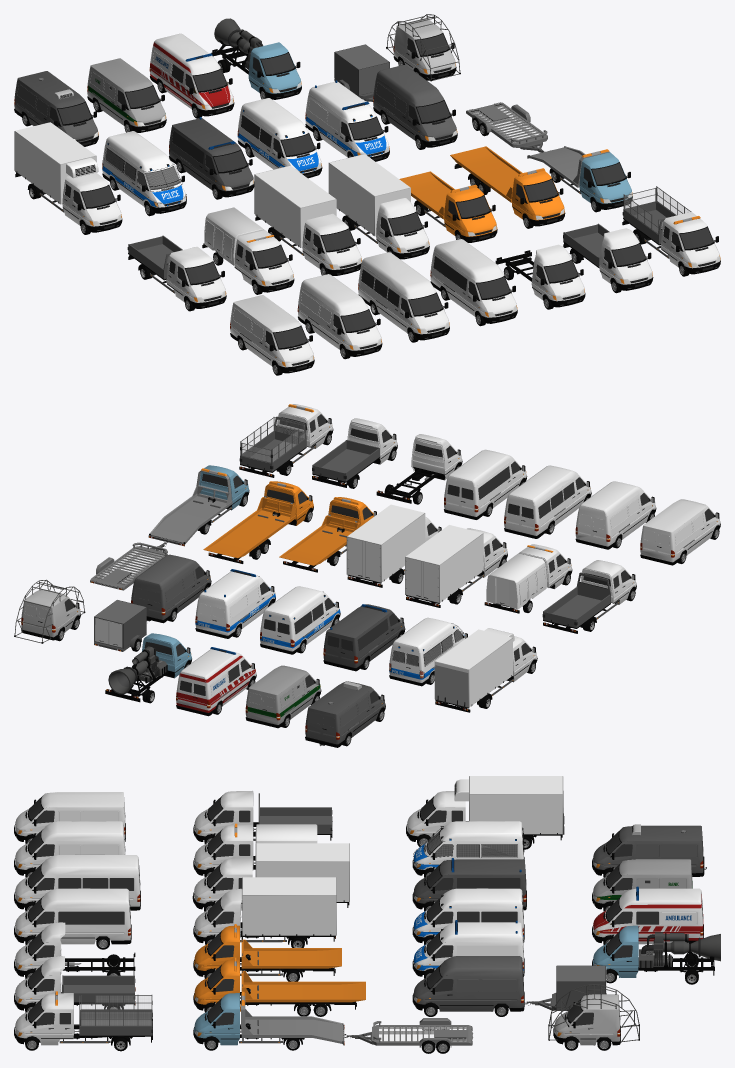
File: mini-low-poly.glb
The picture shows the model from 3 angles, top to bottom: view 1: azimuth 30°, elevation 25°; view 2: azimuth 150°, elevation 25°; view 3: azimuth 270°, elevation 25°; orthographic projection. The views are drawn at different scales.
Visible parts, largest first — view 1: van.017, van.015, van.014, van.019, van.018, van.025, van.020, van.012, van.002, van.006, van.009, van.008 (+15 smaller); view 2: van.017, van.015, van.014, van.018, van.019, van.025, van.013, van.011, van.021, van.008, van.002, van.009 (+15 smaller); view 3: van.014, van.017, van.018, van.015, van.006, van.025, van.002, van.013, van.011, van.019, van.001, van.012 (+15 smaller).
Boxes of the visible parts, left/top/right/bottom form: van.017: left=14, top=122, right=122, bottom=232; van.015: left=254, top=165, right=361, bottom=275; van.014: left=328, top=154, right=429, bottom=259; van.019: left=358, top=252, right=449, bottom=340; van.018: left=622, top=186, right=720, bottom=274; van.025: left=430, top=239, right=517, bottom=323; van.020: left=202, top=207, right=294, bottom=292; van.012: left=102, top=131, right=186, bottom=213; van.002: left=149, top=33, right=234, bottom=116; van.006: left=373, top=65, right=457, bottom=147; van.009: left=297, top=274, right=382, bottom=356; van.008: left=305, top=80, right=389, bottom=161; van.017: left=434, top=628, right=537, bottom=712; van.015: left=405, top=525, right=507, bottom=607; van.014: left=346, top=504, right=441, bottom=587; van.018: left=239, top=404, right=333, bottom=477; van.019: left=504, top=465, right=591, bottom=538; van.025: left=444, top=449, right=527, bottom=519; van.013: left=203, top=481, right=313, bottom=563; van.011: left=148, top=465, right=249, bottom=546; van.021: left=542, top=560, right=636, bottom=633; van.008: left=195, top=569, right=275, bottom=638; van.002: left=176, top=647, right=256, bottom=716; van.009: left=575, top=481, right=656, bottom=549; van.014: left=193, top=877, right=336, bottom=944; van.017: left=406, top=776, right=564, bottom=843; van.018: left=14, top=991, right=152, bottom=1045; van.015: left=192, top=843, right=349, bottom=910; van.006: left=412, top=956, right=527, bottom=1011; van.025: left=14, top=888, right=131, bottom=944; van.002: left=592, top=886, right=703, bottom=944; van.013: left=193, top=957, right=365, bottom=1011; van.011: left=193, top=991, right=347, bottom=1045; van.019: left=14, top=854, right=140, bottom=910; van.001: left=592, top=925, right=720, bottom=977; van.012: left=412, top=821, right=524, bottom=875.
Size of the model in its own units: 26.61 by 3.13 by 35.47.
2 materials, 2 textured.
